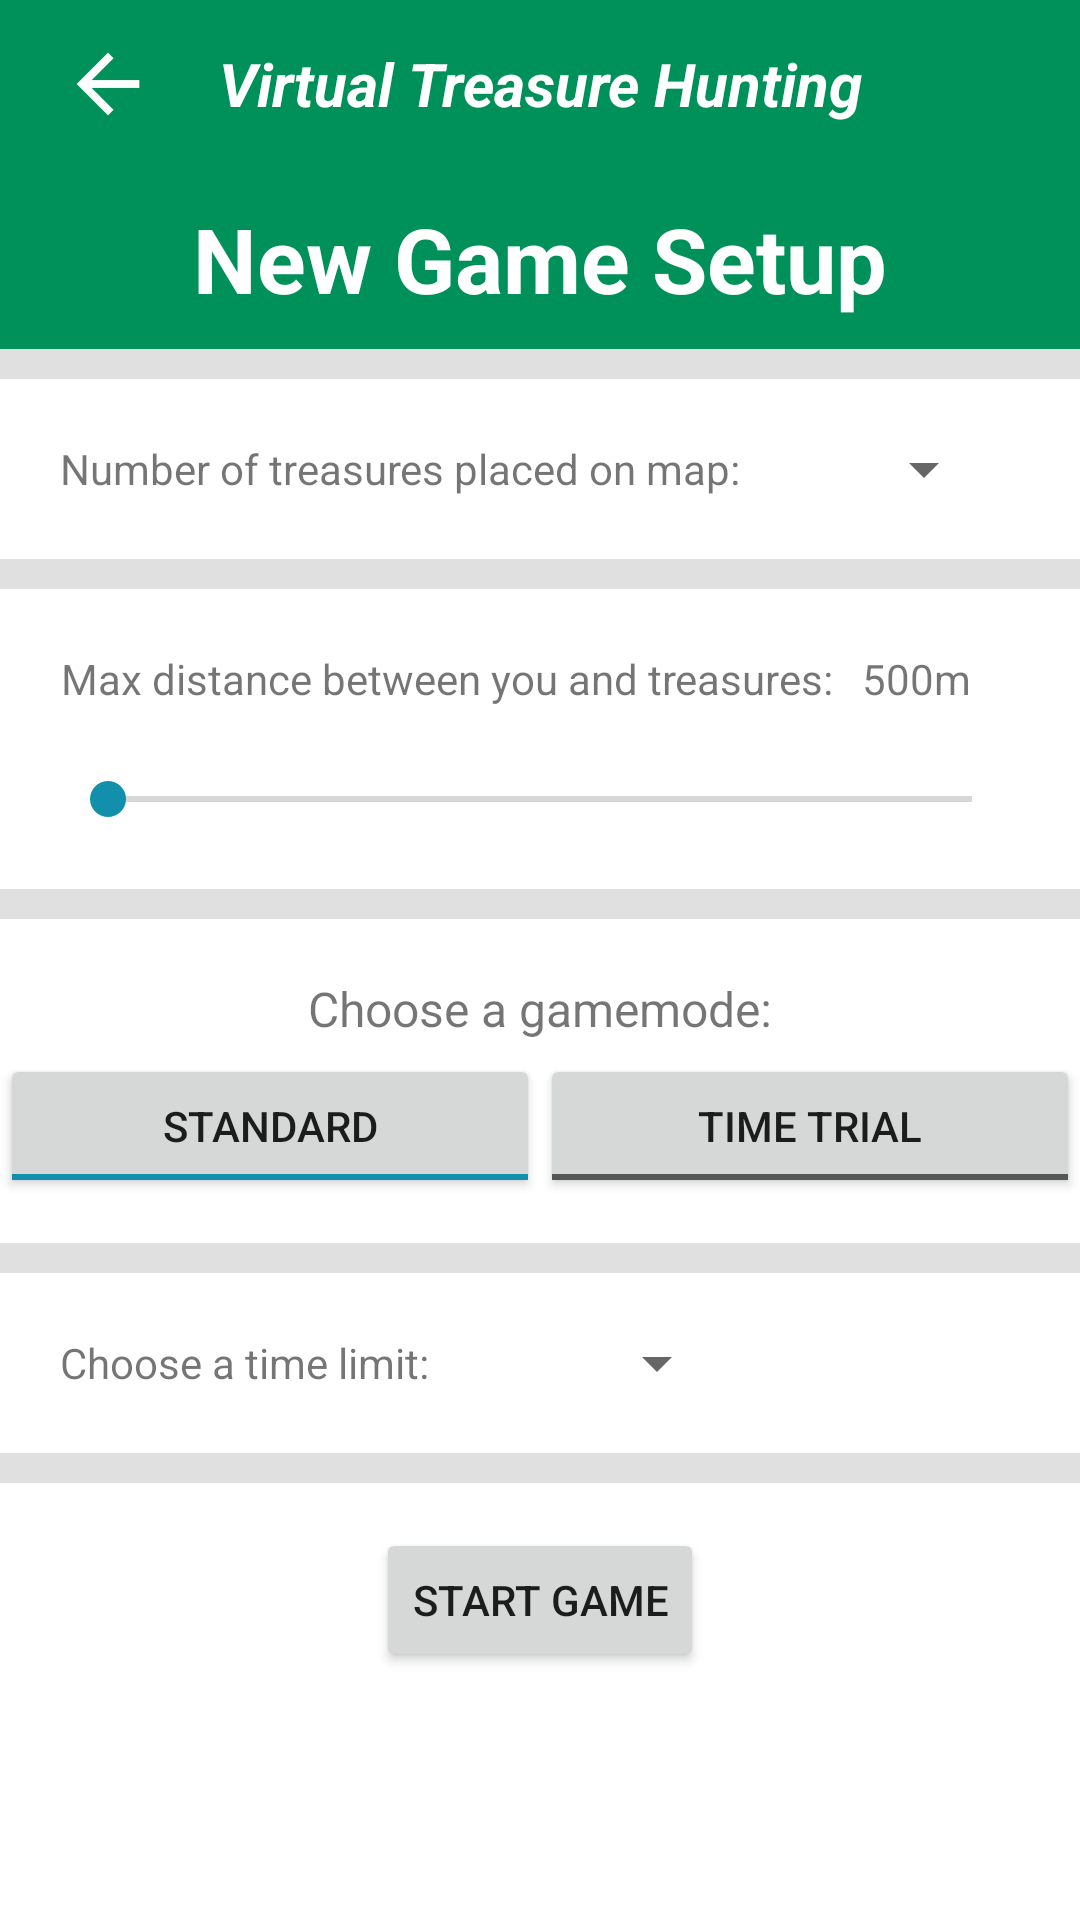

Point at icon controls on the screen. Image size 1080*1920, points as point (x, y).
Back button: point (108, 84)
